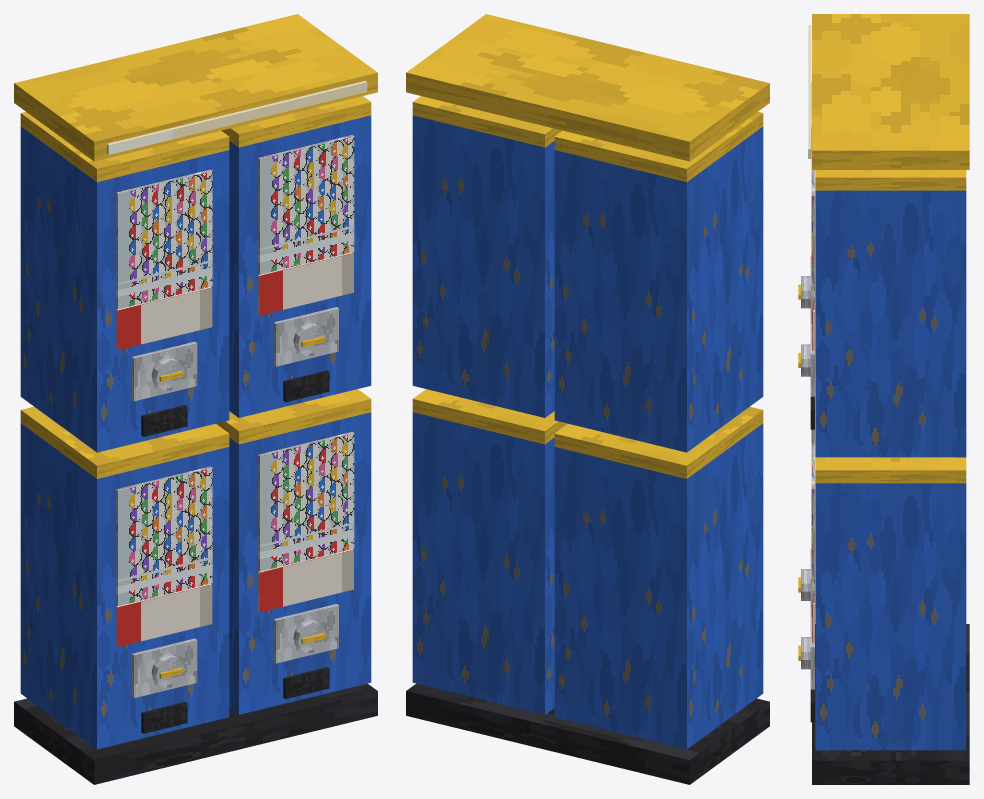
File: route_machine_blue.glb
3 renders of one model, left to right at view 1: azimuth 30°, elevation 25°; view 2: azimuth 150°, elevation 25°; view 3: azimuth 270°, elevation 25°, orthographic.
Parts seen in each view (by area): view 1: Cube; view 2: Cube; view 3: Cube.
Boxes of the visible parts, x1,y1,x2,y2 form: Cube: [14, 14, 377, 784]; Cube: [406, 14, 769, 784]; Cube: [798, 14, 969, 784].
Bounding box in the file's own units: 0.9 × 1.95 × 0.478.
7 materials, 7 textured.
